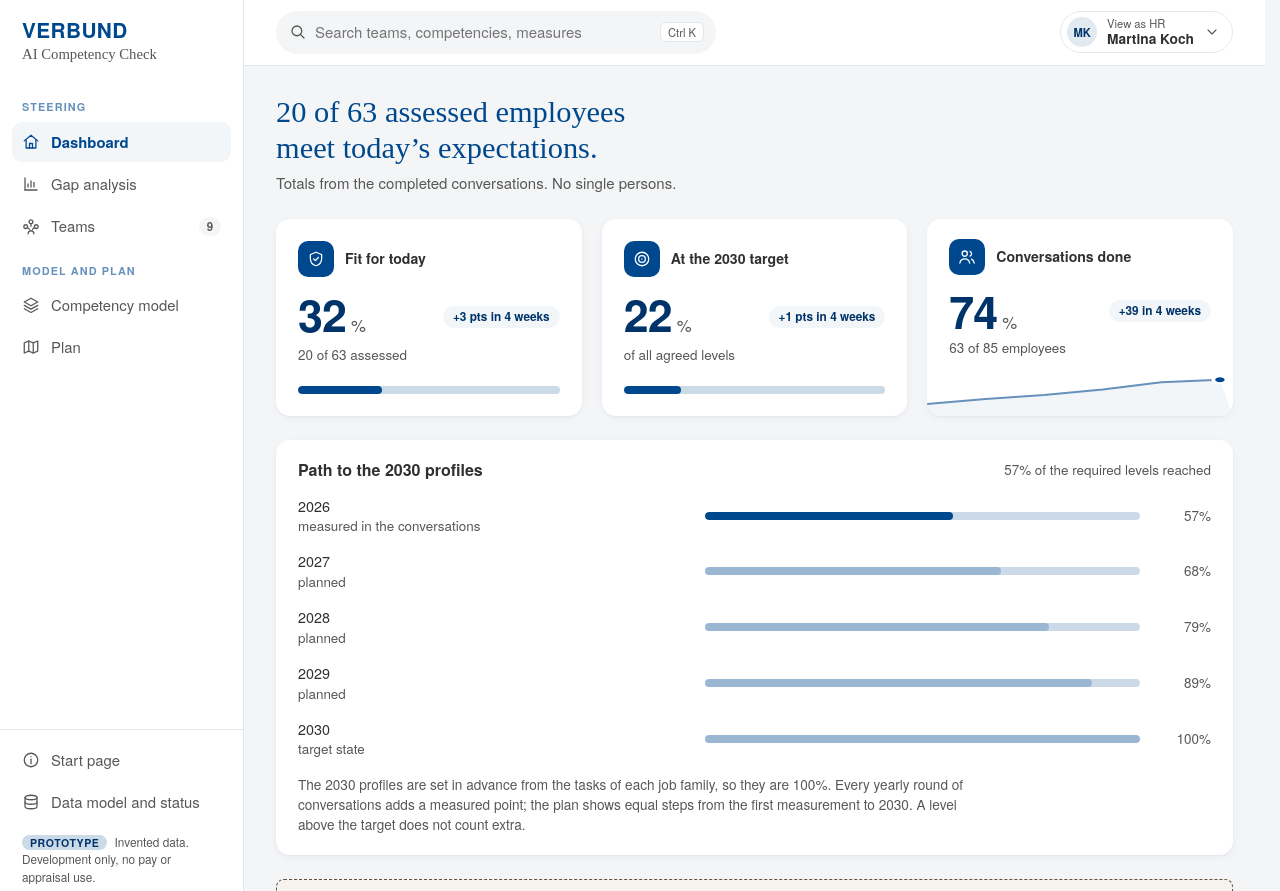
search › is operated with the arrow keys and Enter
Expected: the navigation bar named "Main" is shown, [12,100,231,357]
Type "a" into the dropdown labelled "Search". click: [496, 32]
box: [276,11,716,54]
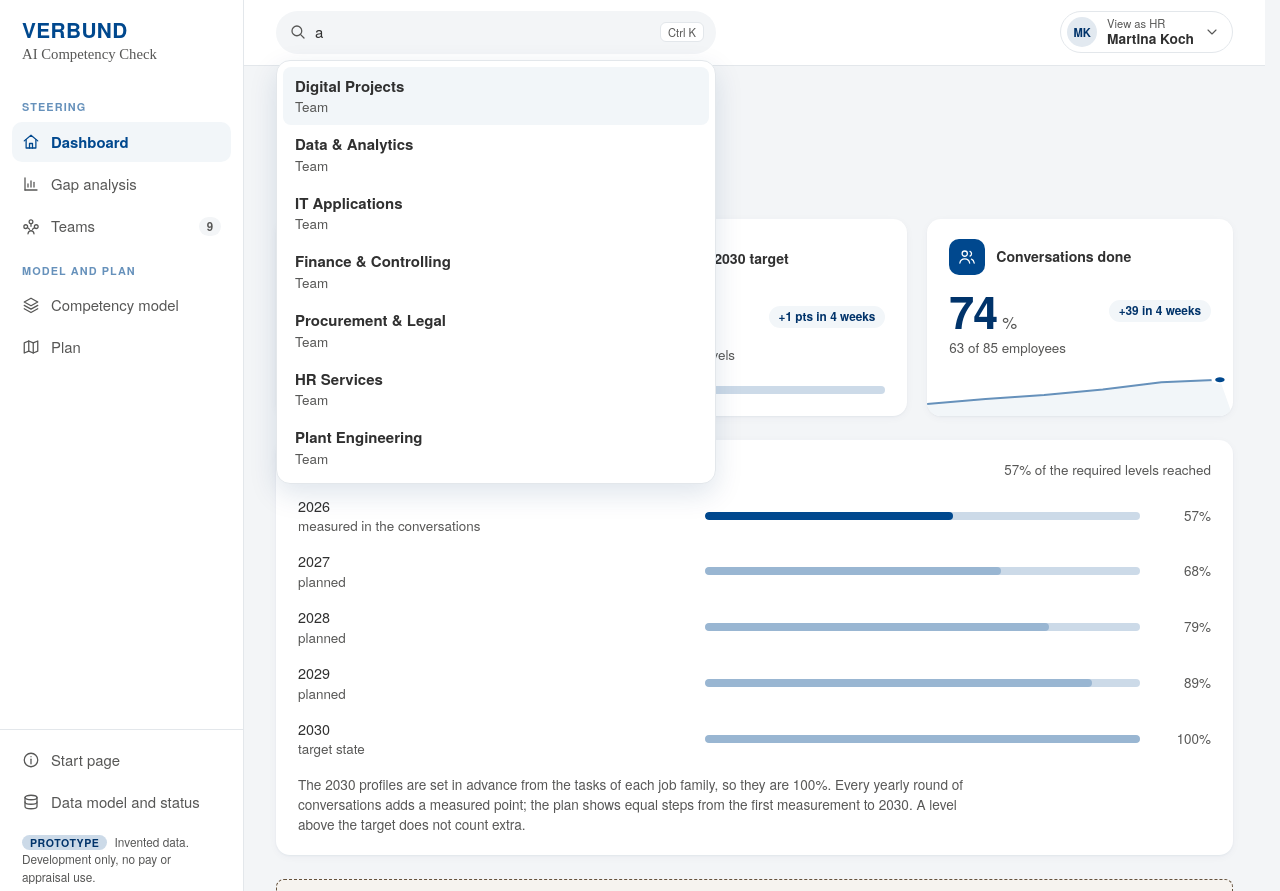
Press ArrowDown in the dropdown named "Search", box [276,11,716,54]
Press Enter in the dropdown named "Search", box [276,11,716,54]
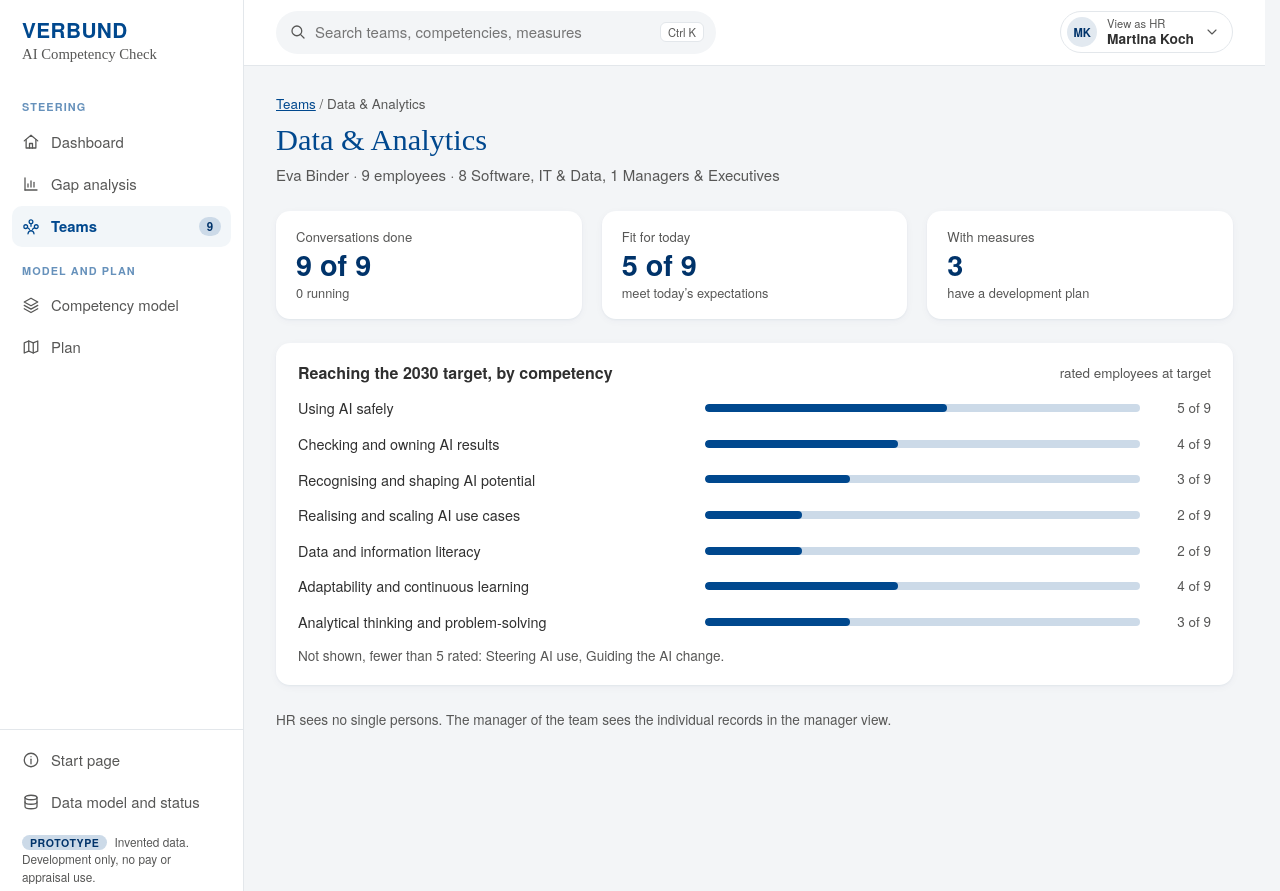
Result: the text "Data & Analytics" is shown at [327,94,426,112]
Result: the list is gone
